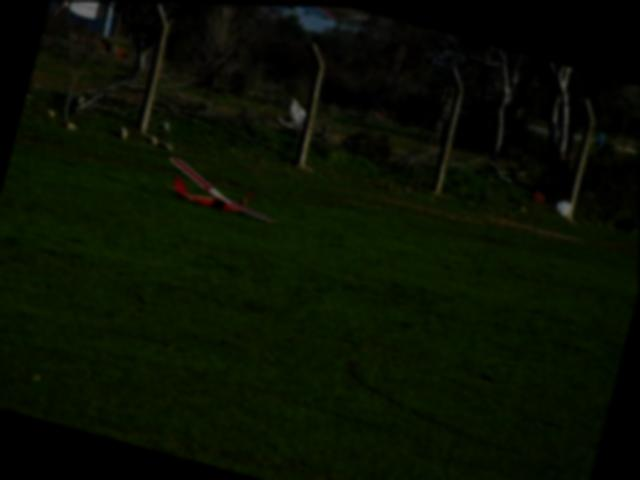iha: (150, 148, 291, 231)
